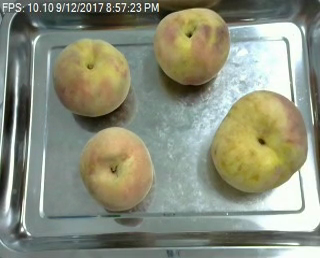Peach: (211, 88, 308, 193), (79, 126, 154, 211), (52, 37, 130, 116), (153, 7, 231, 85)
